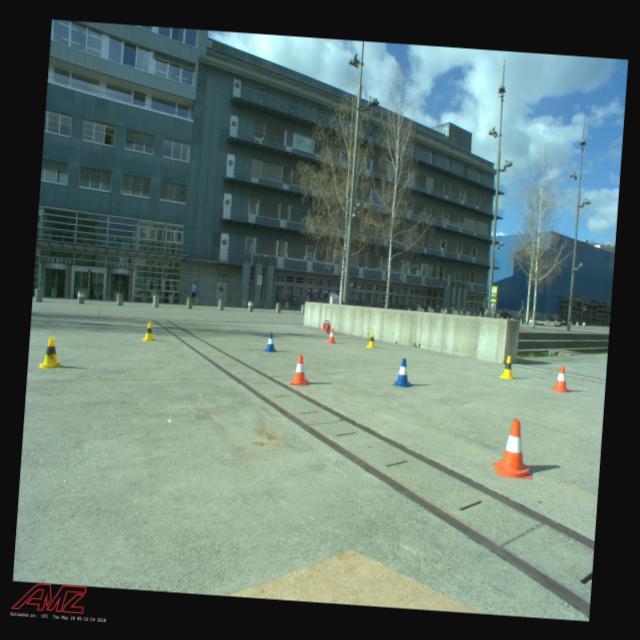blue_cone: (392, 358, 412, 388), (263, 332, 278, 352)
orange_cone: (492, 417, 536, 479), (290, 353, 310, 386), (550, 364, 570, 392), (326, 328, 337, 343)
yellow_cone: (38, 336, 64, 369), (497, 354, 517, 380), (142, 322, 156, 341), (365, 331, 377, 348)
